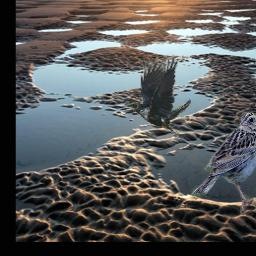Crow: (126, 54, 192, 141)
Sparrow: (191, 113, 256, 216)
